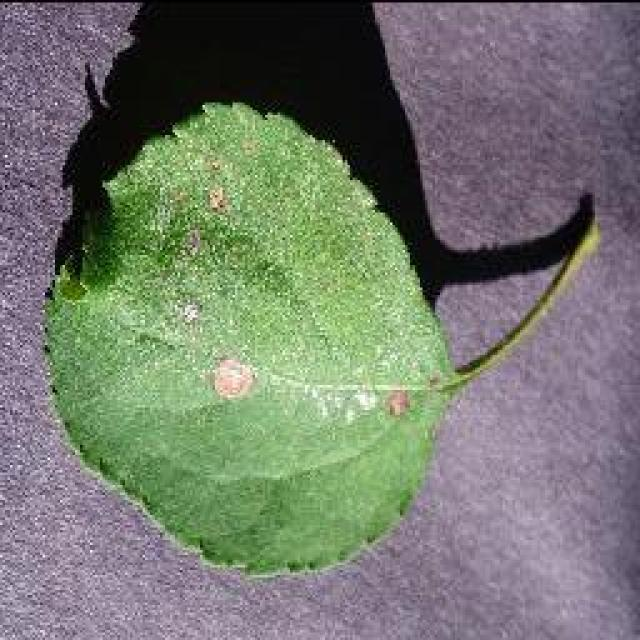Black_rot: (40, 95, 600, 577)
